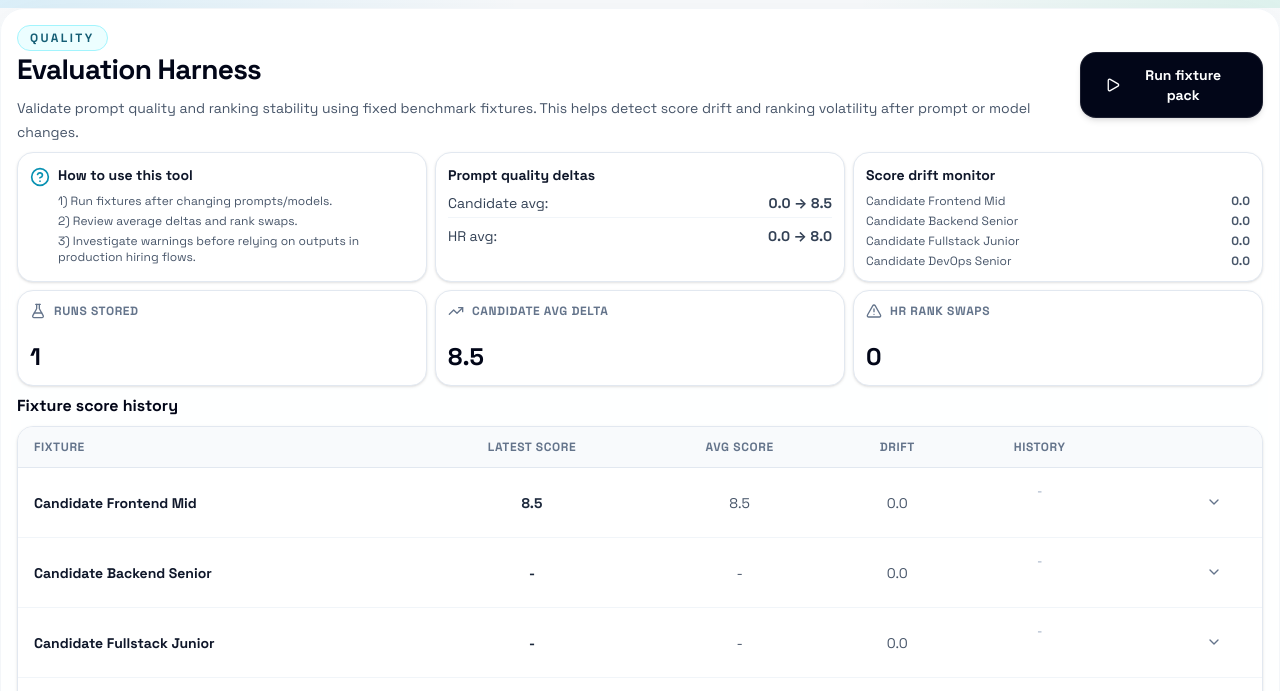
Test: QualityHarness › expands and collapses fixture details
Step 1. Click the 2nd button → coordinates (1224, 502), box x1=1202 y1=480 x2=1246 y2=524
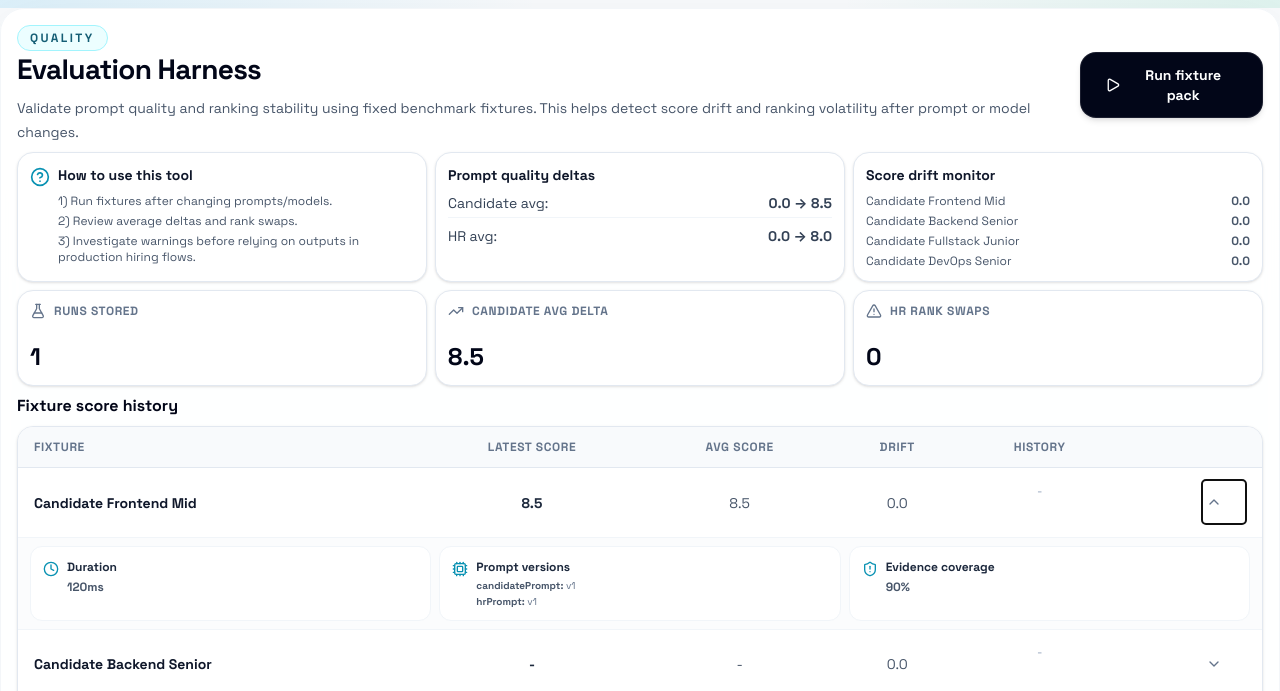
expect the text "Duration" is shown: met, box x1=67 y1=559 x2=117 y2=575
expect the text "120ms" is shown: met, box x1=67 y1=579 x2=104 y2=595
expect the text "Evidence coverage" is shown: met, box x1=886 y1=559 x2=995 y2=575
Step 2. Click the 2nd button → coordinates (1224, 502), box x1=1202 y1=480 x2=1246 y2=524
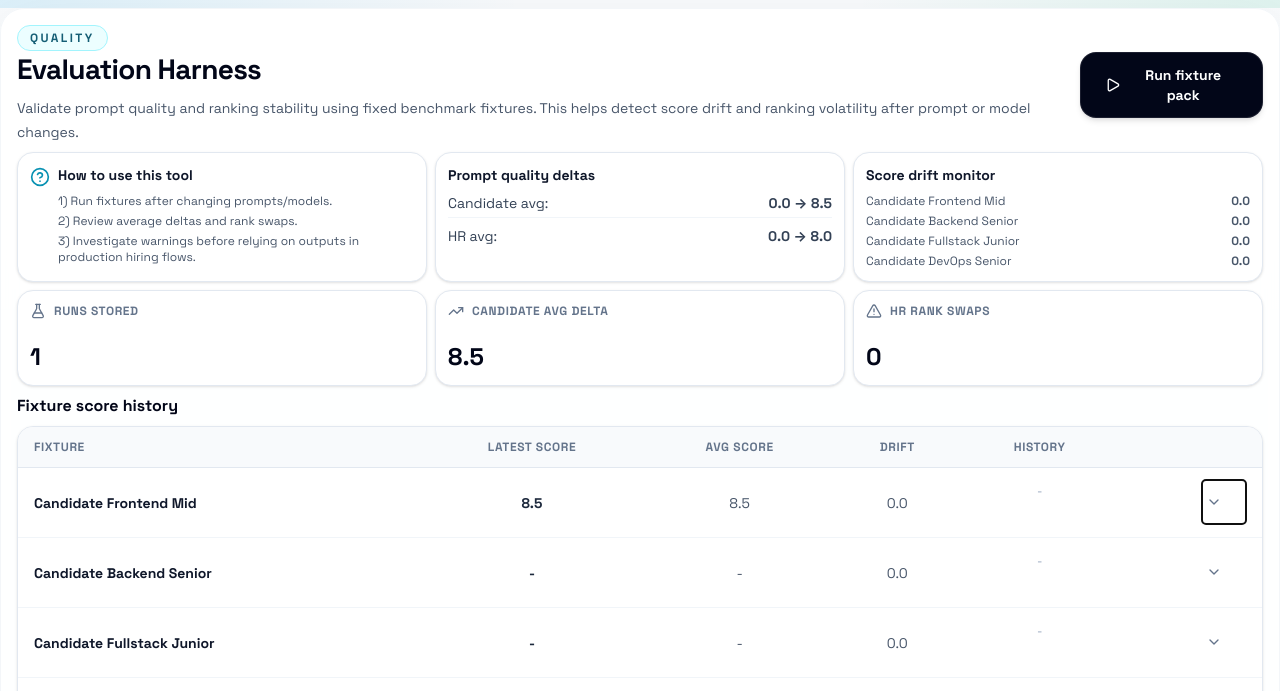
expect the text "120ms" is gone: met
